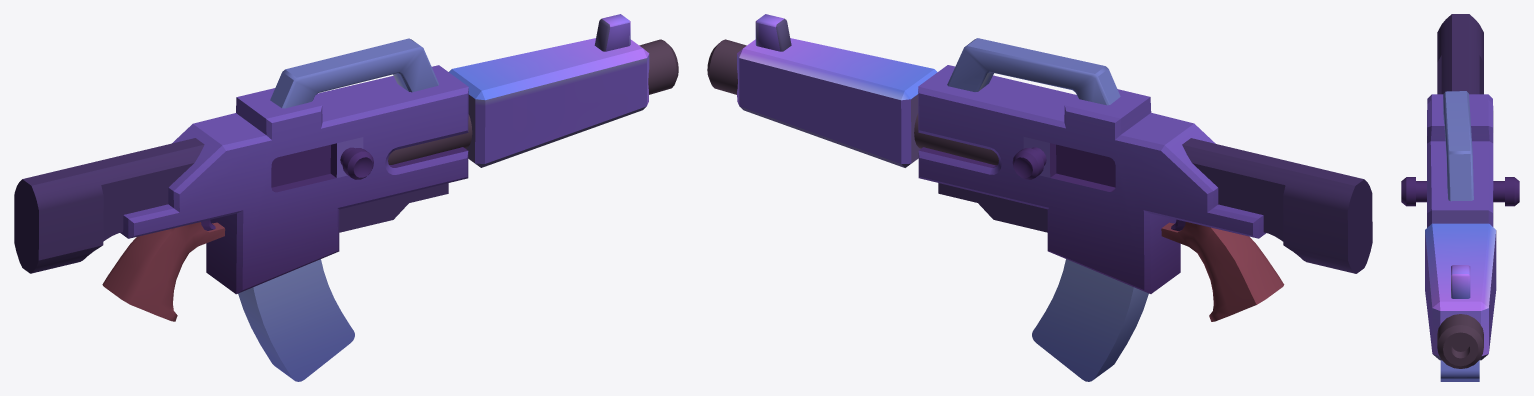
Rendered from Weapon8.fbx.
3 renders of one model, left to right at view 1: azimuth 30°, elevation 25°; view 2: azimuth 150°, elevation 25°; view 3: azimuth 270°, elevation 25°, orthographic. The views are drawn at different scales.
Visible parts, largest first — view 1: Weapon8; view 2: Weapon8; view 3: Weapon8.
Part boxes in pixels (x1,y1,x2,y2): Weapon8: (14, 14, 678, 381); Weapon8: (707, 14, 1372, 381); Weapon8: (1401, 14, 1519, 381).
Size of the model in its own units: 100 by 45.16 by 16.7.
